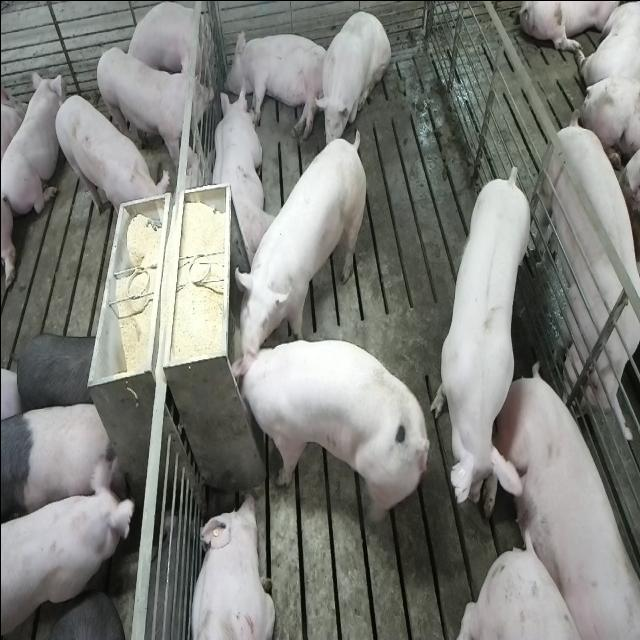Feeding: (233, 340, 430, 536), (233, 125, 369, 377)
Lateral_lying: (481, 361, 636, 636), (223, 25, 330, 138)
Sitting: (312, 8, 390, 153)
Standing: (432, 158, 534, 522), (537, 108, 640, 429), (2, 456, 138, 640), (52, 92, 167, 238), (2, 400, 122, 529)
Sternal_lying: (186, 490, 275, 640), (207, 82, 269, 262), (1, 70, 62, 222), (125, 2, 208, 88)
